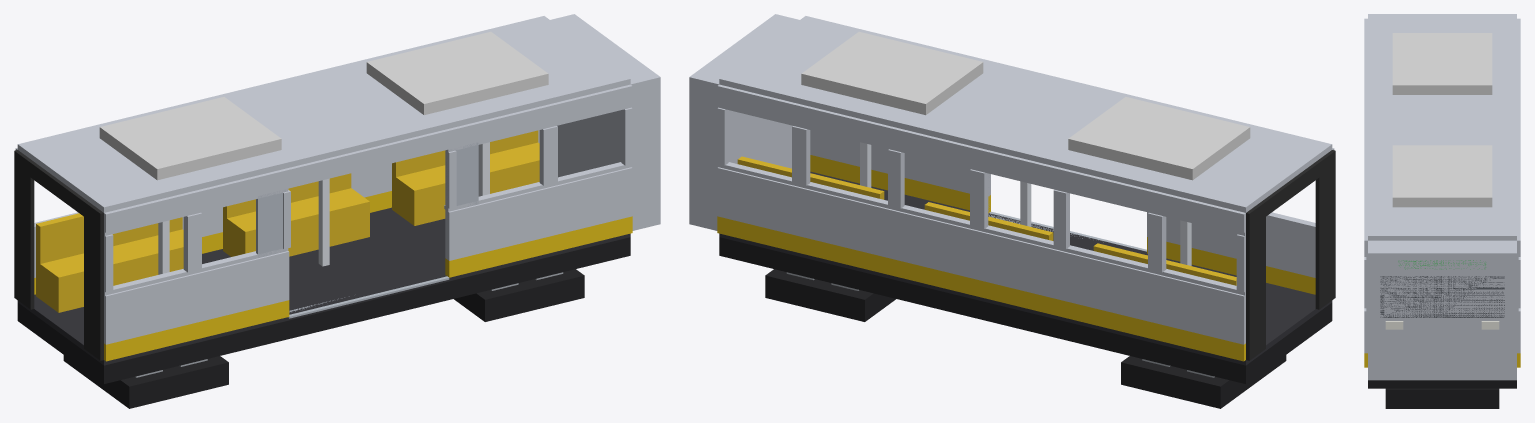
Rendered from metro_wagon_lead_l4.obj.
3 renders of one model, left to right at view 1: azimuth 30°, elevation 25°; view 2: azimuth 150°, elevation 25°; view 3: azimuth 270°, elevation 25°, orthographic. The views are drawn at different scales.
Size of the model in its own units: 3.16 by 1.26 by 0.88.
